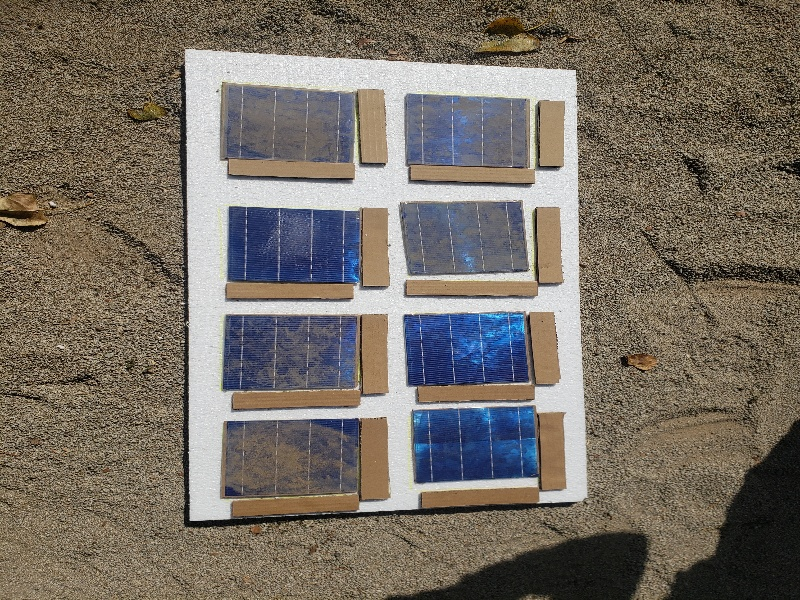clean: (221, 204, 368, 290), (407, 402, 540, 479), (401, 314, 535, 384)
dirty: (223, 78, 362, 168), (221, 314, 360, 396), (221, 418, 360, 496), (396, 197, 528, 276), (404, 97, 537, 168)
